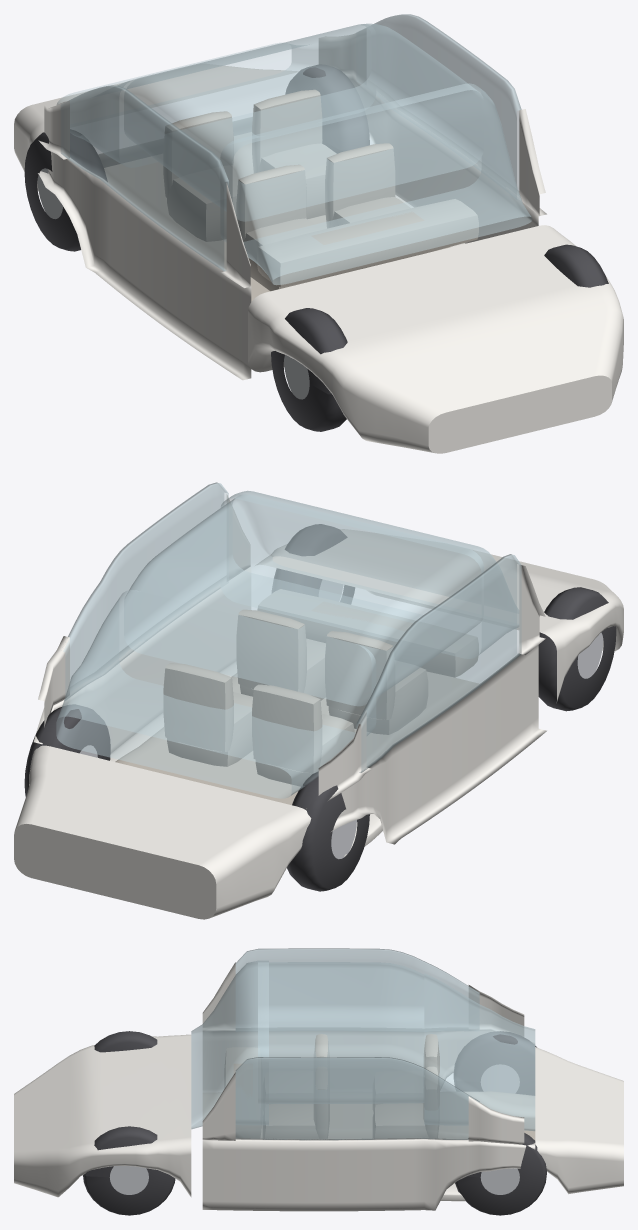
File: ev-lot.glb
The picture shows the model from 3 angles, top to bottom: view 1: azimuth 30°, elevation 25°; view 2: azimuth 150°, elevation 25°; view 3: azimuth 270°, elevation 25°; orthographic projection. The views are drawn at different scales.
Visible parts, largest first — view 1: BodyHood, RoofGlass, Windshield, DoorL, SideWindowL, SideWindowR, RearWindow, InteriorDash, DoorR, BodyDeck, BodyHoodCap, InteriorFloor (+18 smaller); view 2: RoofGlass, RearWindow, BodyDeck, Windshield, DoorL, SideWindowL, BodyHood, SideWindowR, DoorR, BodyDeckCap, InteriorFloor, InteriorDash (+19 smaller); view 3: RoofGlass, BodyHood, DoorR, SideWindowR, SideWindowL, RearWindow, BodyDeck, Windshield, DoorL, InteriorFloor, WheelFRTire, WheelRLTire (+15 smaller).
Boxes of the visible parts, bbox=[...] form: BodyHood: bbox=[248, 225, 623, 452]; RoofGlass: bbox=[126, 23, 483, 221]; Windshield: bbox=[220, 83, 531, 284]; DoorL: bbox=[38, 152, 251, 380]; SideWindowL: bbox=[61, 85, 228, 271]; SideWindowR: bbox=[357, 14, 521, 198]; RearWindow: bbox=[57, 24, 371, 163]; InteriorDash: bbox=[257, 199, 478, 287]; DoorR: bbox=[345, 74, 546, 243]; BodyDeck: bbox=[14, 64, 298, 190]; BodyHoodCap: bbox=[428, 375, 611, 453]; InteriorFloor: bbox=[104, 132, 450, 301]; RoofGlass: bbox=[124, 494, 483, 705]; RearWindow: bbox=[56, 590, 375, 798]; BodyDeck: bbox=[15, 745, 311, 917]; Windshield: bbox=[221, 491, 518, 654]; DoorL: bbox=[306, 645, 546, 844]; SideWindowL: bbox=[356, 554, 521, 772]; BodyHood: bbox=[257, 529, 623, 703]; SideWindowR: bbox=[63, 482, 228, 700]; DoorR: bbox=[33, 567, 250, 757]; BodyDeckCap: bbox=[14, 824, 216, 919]; InteriorFloor: bbox=[115, 672, 478, 805]; InteriorDash: bbox=[257, 589, 478, 677]; RoofGlass: bbox=[258, 962, 424, 1103]; BodyHood: bbox=[14, 1034, 191, 1197]; DoorR: bbox=[202, 1138, 535, 1211]; SideWindowR: bbox=[235, 1057, 479, 1140]; SideWindowL: bbox=[235, 948, 479, 1031]; RearWindow: bbox=[424, 973, 535, 1131]; BodyDeck: bbox=[535, 1047, 623, 1194]; Windshield: bbox=[191, 960, 268, 1128]; DoorL: bbox=[203, 1030, 534, 1092]; InteriorFloor: bbox=[203, 1091, 535, 1140]; WheelFRTire: bbox=[83, 1126, 175, 1215]; WheelRLTire: bbox=[454, 1031, 536, 1095].
Size of the model in its own units: 2 by 1.3 by 4.44.
